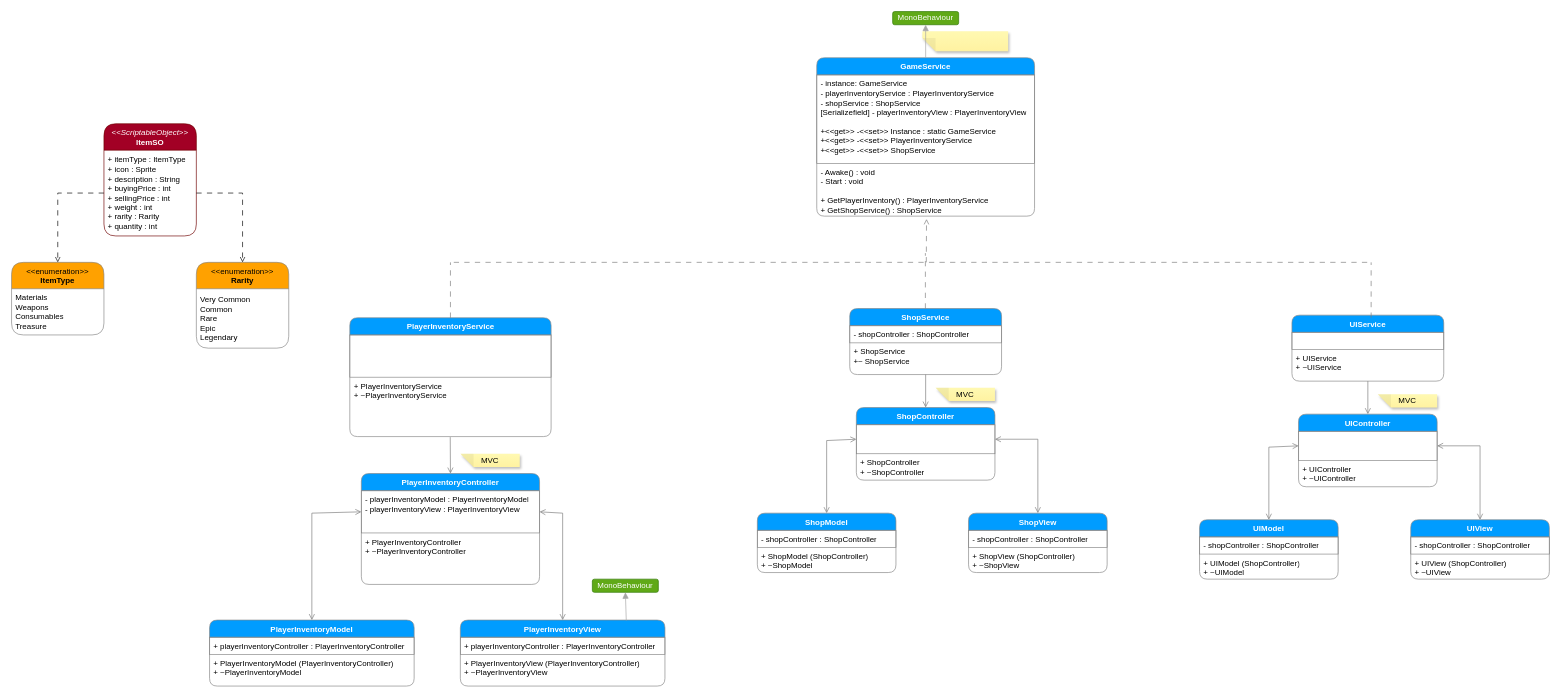
Image size: 1561x700. Some labels were removed from this diagram. The centre of each missing label's shape, as x and y in pixels:
- playerInventoryController : PlayerInventoryController: (x=450, y=355)
- shopModel : ShopModel - shopView : ShopView: (x=925, y=439)
- uIController : uIController: (x=1367, y=340)
- uIModel : UIModel - uIView : UIView: (x=1367, y=445)
Service Locator: (x=965, y=41)
